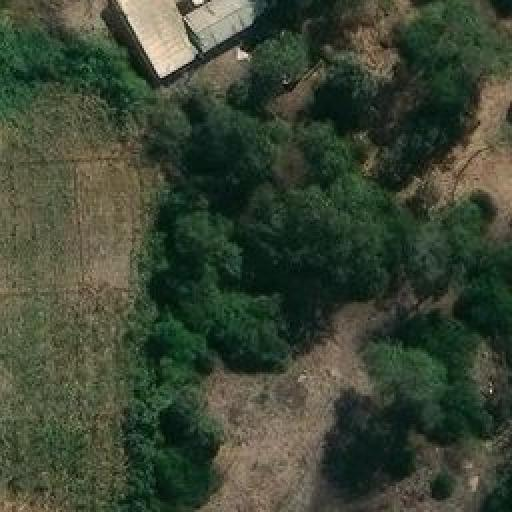manzanas: (117, 0, 312, 80)
